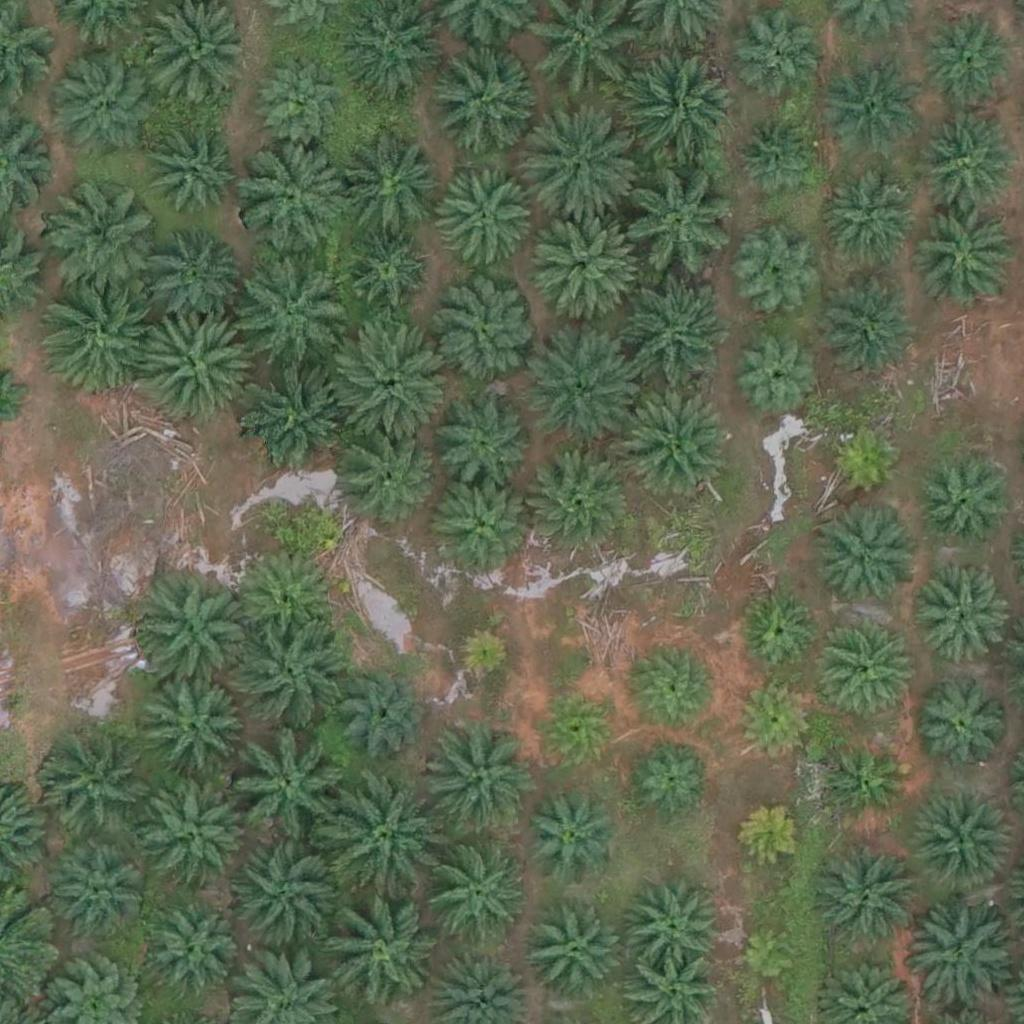Kelapa_Sawit: (810, 837, 923, 951), (528, 113, 641, 227), (908, 903, 1021, 1016), (229, 838, 342, 951), (622, 54, 735, 167), (615, 170, 728, 283), (230, 244, 343, 357), (243, 361, 356, 474), (137, 308, 250, 421), (42, 49, 155, 162), (42, 168, 155, 281), (34, 282, 147, 395), (326, 785, 439, 898), (232, 734, 345, 847), (137, 577, 250, 690), (614, 285, 726, 399), (618, 389, 730, 503), (520, 446, 632, 560), (233, 142, 345, 256), (322, 894, 434, 1007), (528, 335, 640, 448), (528, 208, 640, 321), (420, 44, 532, 157), (335, 132, 447, 245), (335, 320, 447, 433), (423, 721, 535, 834), (238, 617, 350, 730), (140, 767, 252, 880), (34, 730, 146, 843), (909, 790, 1009, 891), (623, 874, 723, 975), (517, 787, 617, 888), (524, 903, 624, 1004), (430, 843, 530, 944), (918, 116, 1018, 217), (914, 208, 1014, 309), (915, 448, 1015, 549), (915, 558, 1015, 659), (908, 681, 1008, 782), (819, 164, 919, 265), (820, 273, 920, 374), (813, 510, 913, 611), (812, 618, 912, 719), (434, 170, 534, 271), (434, 282, 534, 383), (436, 391, 536, 492), (331, 430, 431, 531), (144, 227, 244, 328), (148, 114, 248, 215), (237, 547, 337, 648), (145, 681, 245, 782), (821, 67, 921, 167), (436, 477, 536, 577), (823, 414, 911, 502), (631, 642, 719, 730), (631, 734, 719, 822), (729, 674, 817, 762), (737, 585, 825, 673), (924, 12, 1012, 100), (732, 330, 820, 418), (736, 222, 824, 310), (339, 228, 427, 316), (256, 58, 344, 146), (344, 667, 432, 755), (152, 908, 239, 996), (54, 853, 141, 941), (532, 684, 619, 772), (822, 734, 909, 822), (734, 114, 821, 202), (734, 9, 821, 97), (734, 796, 809, 872), (449, 625, 512, 688), (739, 925, 801, 988)
